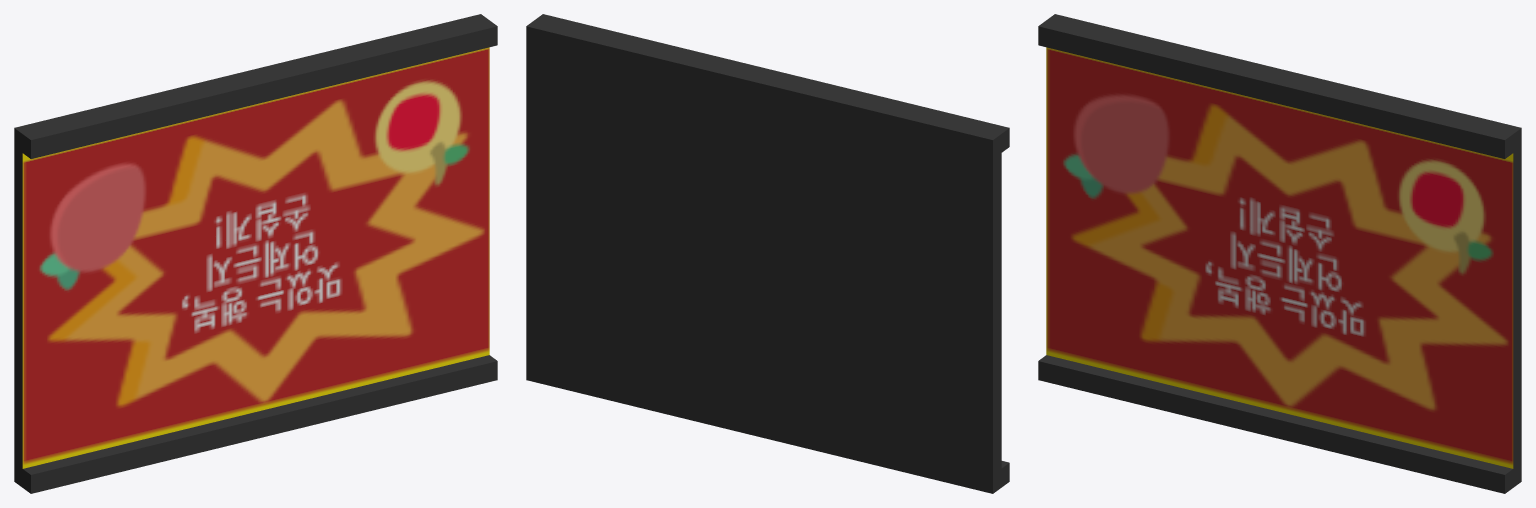
Rendered from B02_Enseigne_A_01.fbx.
3 renders of one model, left to right at view 1: azimuth 30°, elevation 25°; view 2: azimuth 150°, elevation 25°; view 3: azimuth 330°, elevation 25°, orthographic.
Visible parts, largest first — view 1: B02_Enseigne_A_01; view 2: B02_Enseigne_A_01; view 3: B02_Enseigne_A_01.
Boxes of the visible parts, x1,y1,x2,y2 form: B02_Enseigne_A_01: (14,14,497,493); B02_Enseigne_A_01: (526,14,1009,493); B02_Enseigne_A_01: (1038,14,1521,493).
Size of the model in its own units: 389 by 282 by 24.32.
